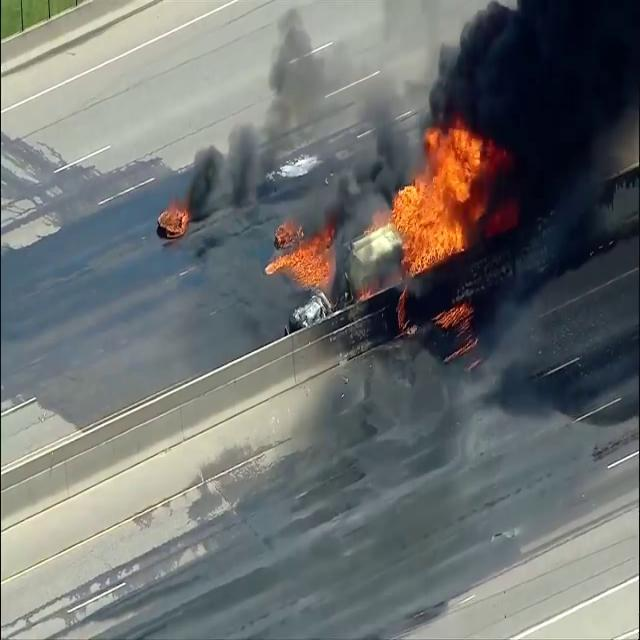Fire: (370, 112, 496, 291), (270, 221, 338, 305), (153, 203, 194, 247)
Smoke: (185, 0, 415, 283), (465, 2, 637, 261)
